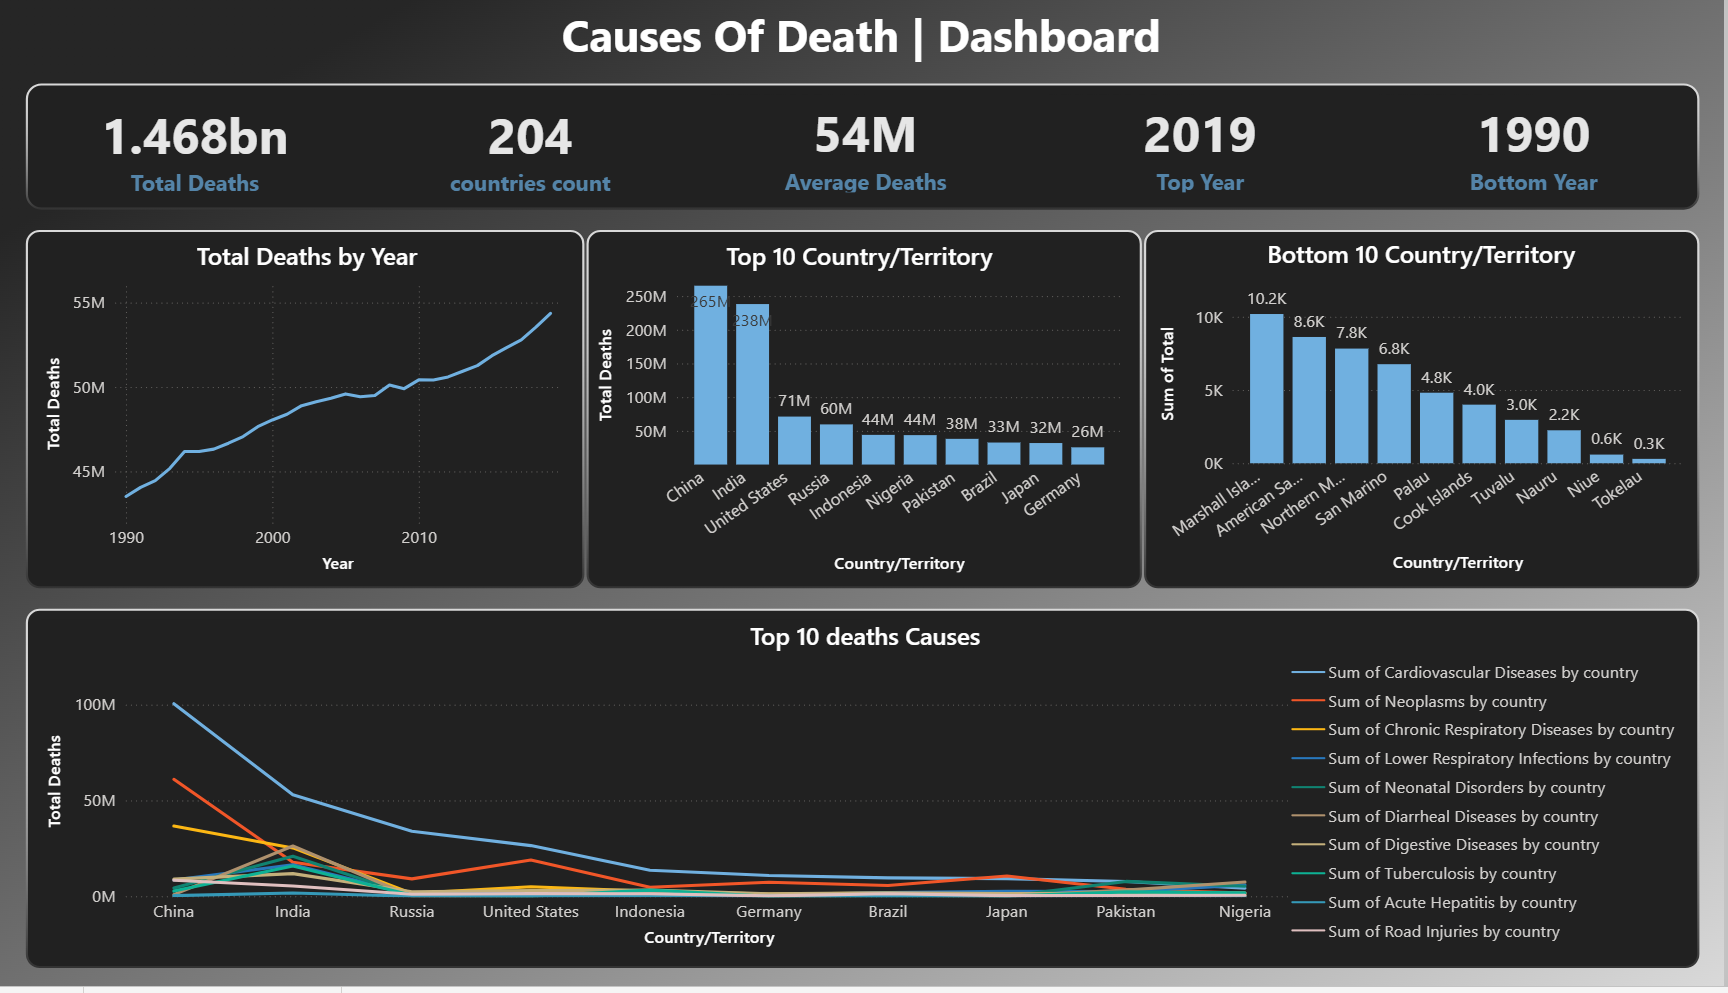

What the dashboard file says about the page in this screenshot:
{"tool":"powerbi","page":{"name":"Cause of Death Dashboard","canvas":[1680,960],"ordinal":0},"visuals":[{"type":"lineChart","fields":{"Category":["cause_of_deaths by year.Year"],"Y":["_Meaures.Total Deaths"]},"box":[41,232.4,519.5,329.6],"z":5000},{"type":"card","fields":{"Values":["_Meaures.Total Deaths"]},"box":[41,92.8,300.8,100.3],"z":6000},{"type":"card","fields":{"Values":["_Meaures.countries count"]},"box":[366.5,92.7,302.3,100.3],"z":7000},{"type":"card","fields":{"Values":["_Meaures.Average Deaths"]},"box":[693.4,92.5,300.8,100.3],"z":8000},{"type":"card","fields":{"Values":["_Meaures.Top Year"]},"box":[1018.9,92.4,300.8,100.3],"z":9000},{"type":"card","fields":{"Values":["_Meaures.Bottom Year"]},"box":[1344.3,92.2,300.8,100.3],"z":10000},{"type":"columnChart","title":"Top 10 Country/Territory","fields":{"Y":["_Meaures.Total Deaths"],"Category":["cause_of_deaths.Country/Territory"]},"box":[578.7,232.4,519.5,329.6],"z":11000},{"type":"columnChart","title":" Bottom 10 Country/Territory","fields":{"Category":["cause_of_deaths by country.Country/Territory"],"Y":["Sum(cause_of_deaths by country.Total)"]},"box":[1125.6,230.9,519.5,329.6],"z":12000},{"type":"lineChart","title":"Top 10 deaths Causes","fields":{"Category":["cause_of_deaths by country.Country/Territory"],"Y":["Sum(cause_of_deaths by country.Sum of Cardiovascular Diseases by country)","Sum(cause_of_deaths by country.Sum of Neoplasms by country)","Sum(cause_of_deaths by country.Sum of Chronic Respiratory Diseases by country)","Sum(cause_of_deaths by country.Sum of Lower Respiratory Infections by country)","Sum(cause_of_deaths by country.Sum of Neonatal Disorders by country)","Sum(cause_of_deaths by country.Sum of Diarrheal Diseases by country)","Sum(cause_of_deaths by country.Sum of Digestive Diseases by country)","Sum(cause_of_deaths by country.Sum of Tuberculosis by country)","Sum(cause_of_deaths by country.Sum of Acute Hepatitis by country)","Sum(cause_of_deaths by country.Sum of Road Injuries by country)"]},"box":[41.7,603.3,1603.3,323.3],"z":13000},{"type":"textbox","box":[0,0,1680,68.4],"z":14000}]}

Visuals, with their boxes in screenshot pixels (x1, y1, x2, y2), scaled from the page's 1680x960 canvas onto the 1728x993 screenshot:
lineChart - cause_of_deaths by year.Year x _Meaures.Total Deaths: <bbox>42, 240, 577, 581</bbox>
card - _Meaures.Total Deaths: <bbox>42, 96, 352, 200</bbox>
card - _Meaures.countries count: <bbox>377, 96, 688, 200</bbox>
card - _Meaures.Average Deaths: <bbox>713, 96, 1023, 199</bbox>
card - _Meaures.Top Year: <bbox>1048, 96, 1357, 199</bbox>
card - _Meaures.Bottom Year: <bbox>1383, 95, 1692, 199</bbox>
"Top 10 Country/Territory" columnChart: <bbox>595, 240, 1130, 581</bbox>
" Bottom 10 Country/Territory" columnChart: <bbox>1158, 239, 1692, 580</bbox>
"Top 10 deaths Causes" lineChart: <bbox>43, 624, 1692, 958</bbox>
textbox: <bbox>0, 0, 1727, 71</bbox>
